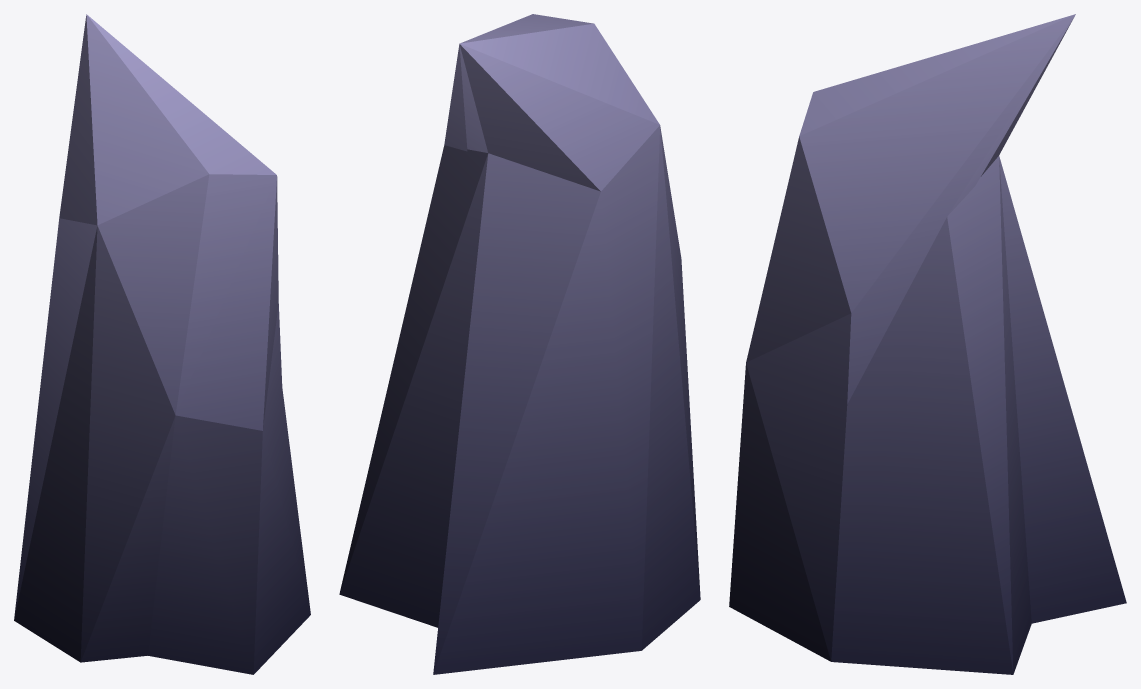
Rendered from BigRock_Sanctuary_3.fbx.
3 renders of one model, left to right at view 1: azimuth 30°, elevation 25°; view 2: azimuth 150°, elevation 25°; view 3: azimuth 270°, elevation 25°, orthographic. The views are drawn at different scales.
Parts seen in each view (by area): view 1: BigRock_3; view 2: BigRock_3; view 3: BigRock_3.
Boxes of the visible parts, bbox=[...] form: BigRock_3: bbox=[14, 14, 310, 674]; BigRock_3: bbox=[339, 14, 700, 674]; BigRock_3: bbox=[729, 14, 1126, 674].
Size of the model in its own units: 5484 by 11275 by 6897.
Materials: 1 (1 with a texture image).
